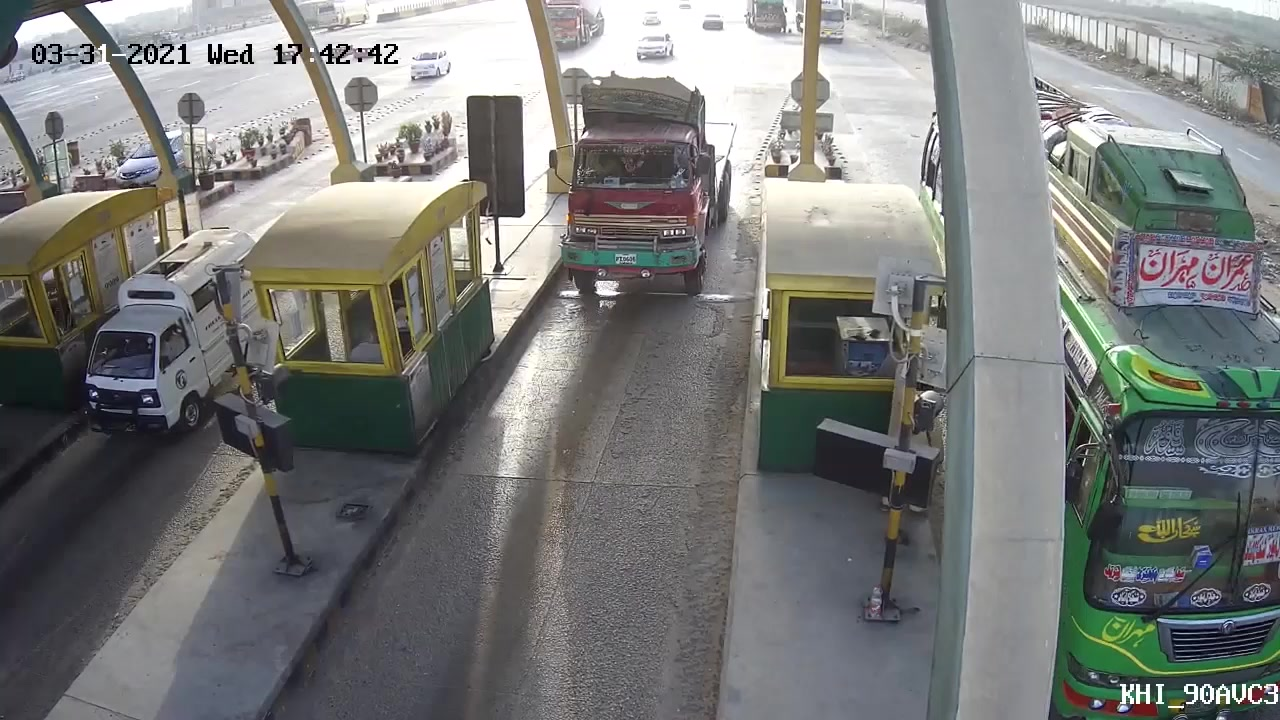F5: (556, 69, 733, 298)
